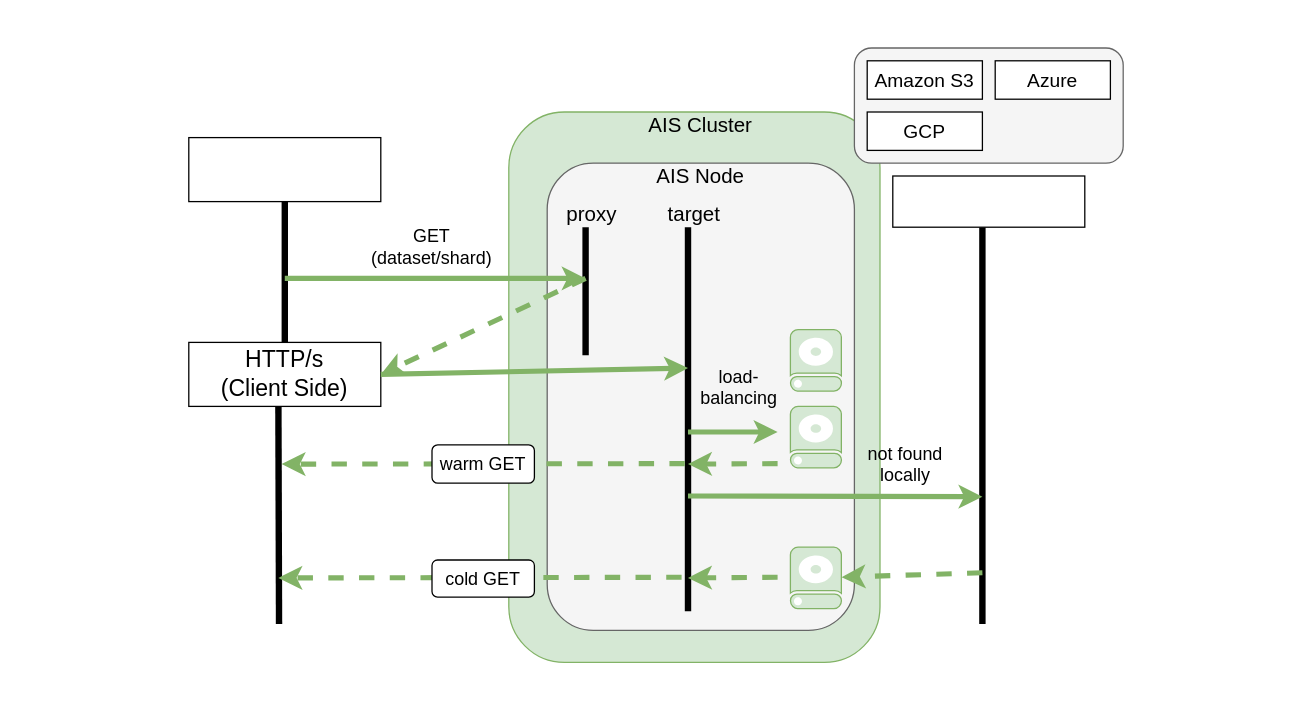
The diagram is 1311 pixels wide and 714 high, and some of its shapes have lost their labels. The centre of each missing label's shape, as x and y in pixels:
Backend: the point at 988,201
ML framework + Model: the point at 284,169
